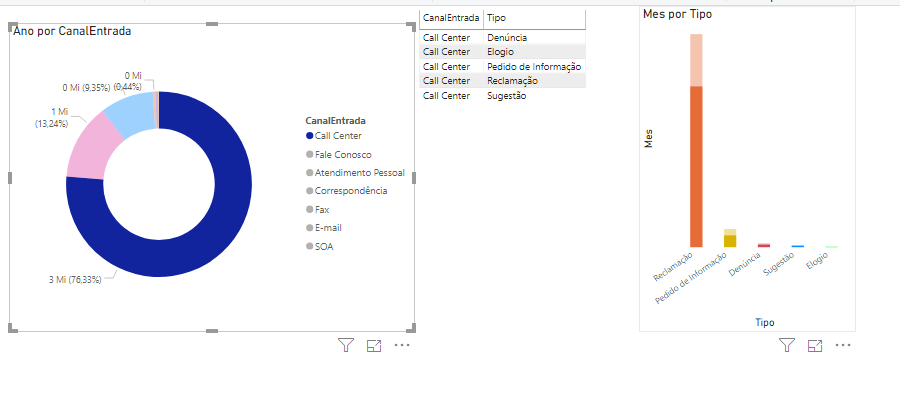

Layout of this report page (visuals, bound fields, positions):
{"tool":"powerbi","page":{"name":"Página 1","canvas":[1280,720],"ordinal":0},"visuals":[{"type":"donutChart","fields":{"Category":["Solicitações Registradas na Anatel (2006-SE).CanalEntrada"],"Y":["Sum(Solicitações Registradas na Anatel (2006-SE).Ano)"]},"box":[16.5,23.4,558.9,425.4],"z":0},{"type":"tableEx","fields":{"Values":["Solicitações Registradas na Anatel (2006-SE).CanalEntrada","Solicitações Registradas na Anatel (2006-SE).Tipo"]},"box":[575.4,0,298.7,448.8],"z":1},{"type":"ribbonChart","fields":{"Category":["Solicitações Registradas na Anatel (2006-SE).Tipo"],"Y":["Sum(Solicitações Registradas na Anatel (2006-SE).Mes)"]},"box":[884,0,299,449],"z":2}]}

Visuals, with their boxes on the page's 1280x720 design canvas (x1, y1, x2, y2). These are canvas units, not pixel positions in the 900x413 screenshot, which may show the page scaled, cropped or inside an application window:
donutChart - Solicitações Registradas na Anatel (2006-SE).CanalEntrada x Sum(Solicitações Registradas na Anatel (2006-SE).Ano): 16/23/575/449
tableEx - Solicitações Registradas na Anatel (2006-SE).CanalEntrada x Solicitações Registradas na Anatel (2006-SE).Tipo: 575/0/874/449
ribbonChart - Solicitações Registradas na Anatel (2006-SE).Tipo x Sum(Solicitações Registradas na Anatel (2006-SE).Mes): 884/0/1183/449
